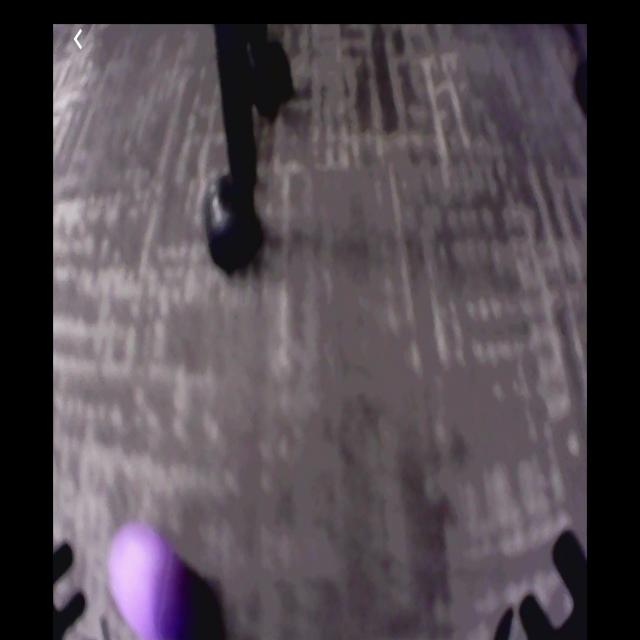ball: (108, 523, 193, 637)
